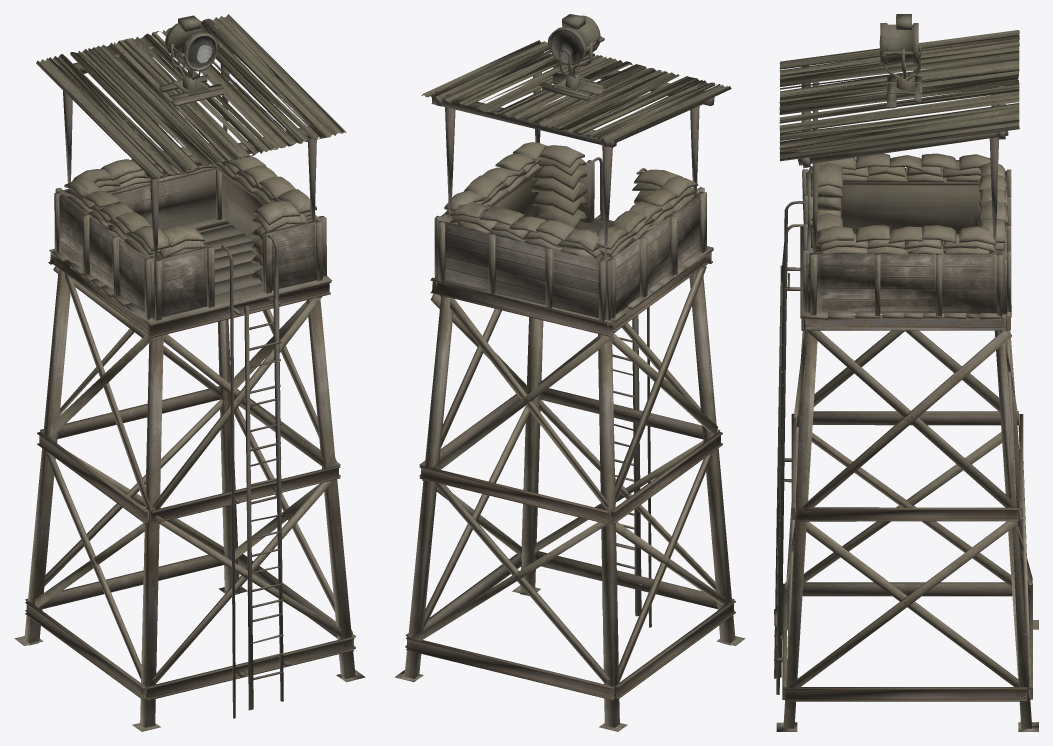
The model's file is watchtower.glb.
3 renders of one model, left to right at view 1: azimuth 30°, elevation 25°; view 2: azimuth 150°, elevation 25°; view 3: azimuth 270°, elevation 25°, orthographic. The views are drawn at different scales.
Parts seen in each view (by area): view 1: hull; view 2: hull; view 3: hull.
Boxes of the visible parts, x1,y1,x2,y2 form: hull: (14, 14, 365, 731); hull: (394, 14, 745, 731); hull: (774, 14, 1038, 731).
Size of the model in its own units: 5.76 by 15.99 by 5.75.
Materials: 3 (3 with a texture image).
